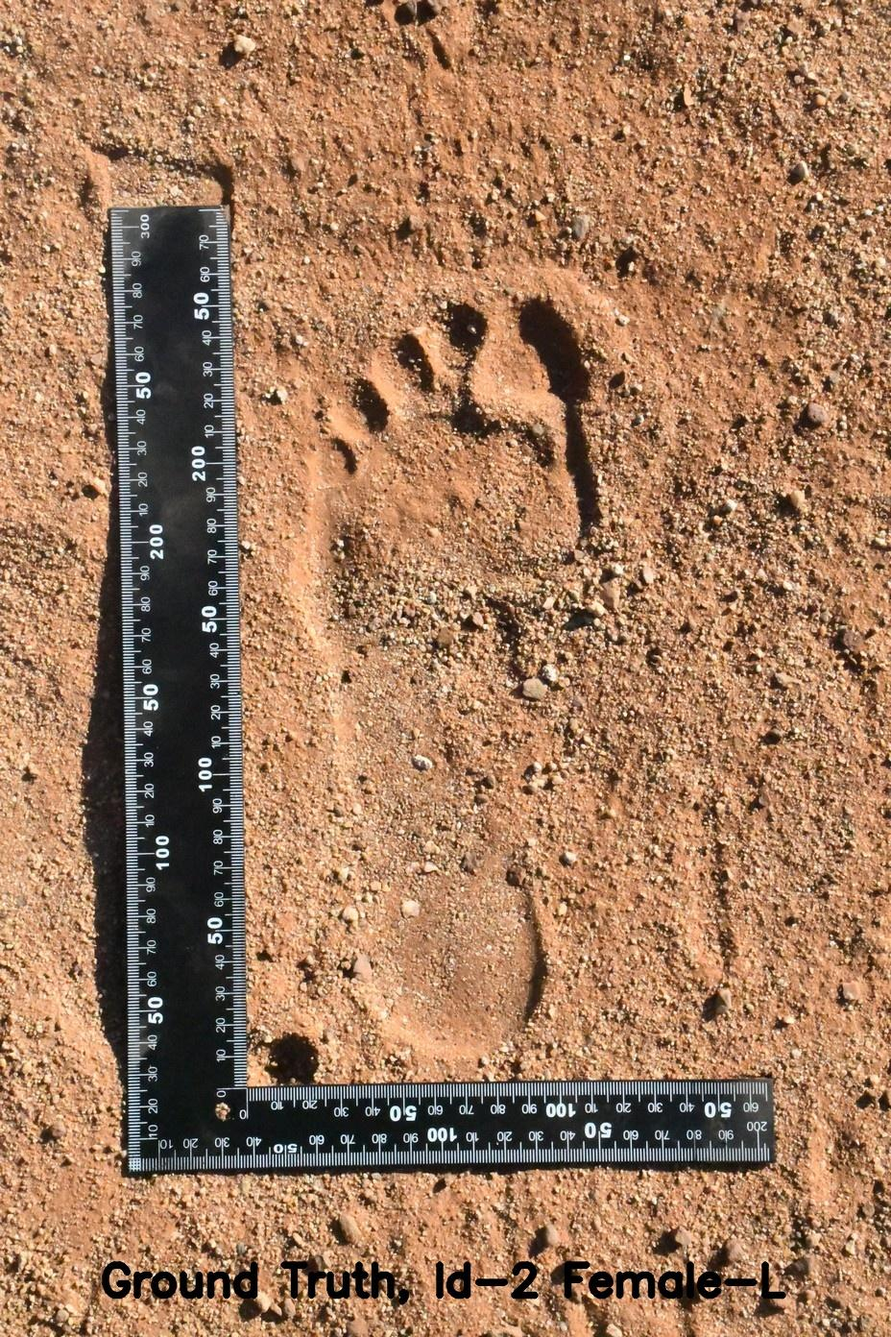human_footprint: (301, 254, 682, 1062)
